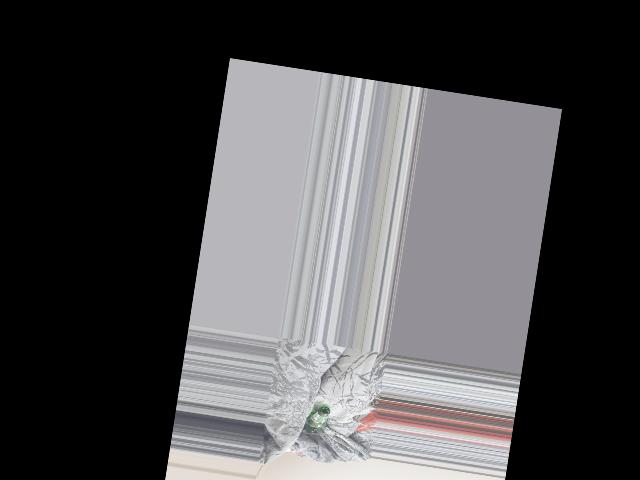beer: (304, 404, 329, 434)
